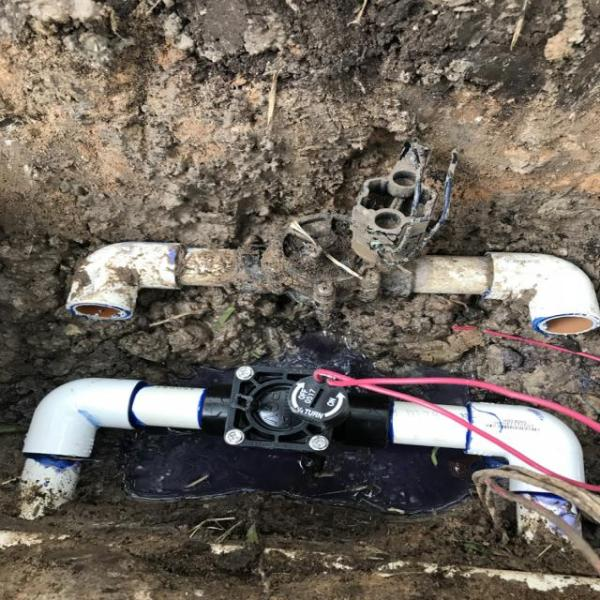no leak: (14, 354, 600, 524), (53, 228, 600, 322)
